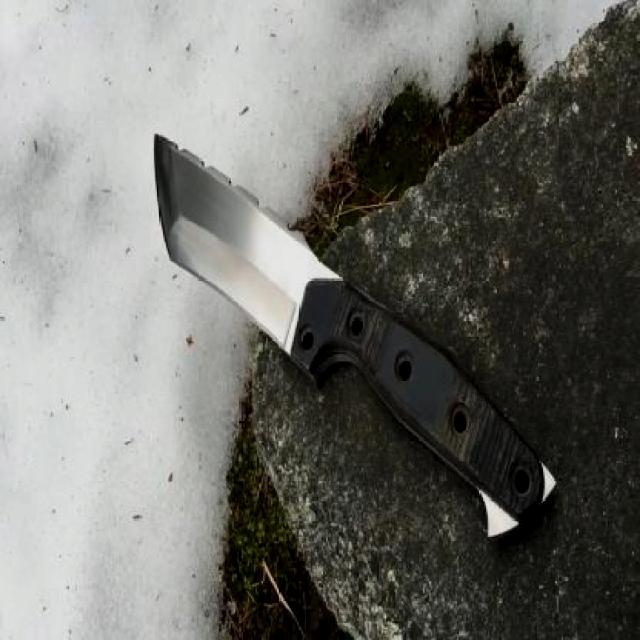knife: (140, 121, 362, 382)
